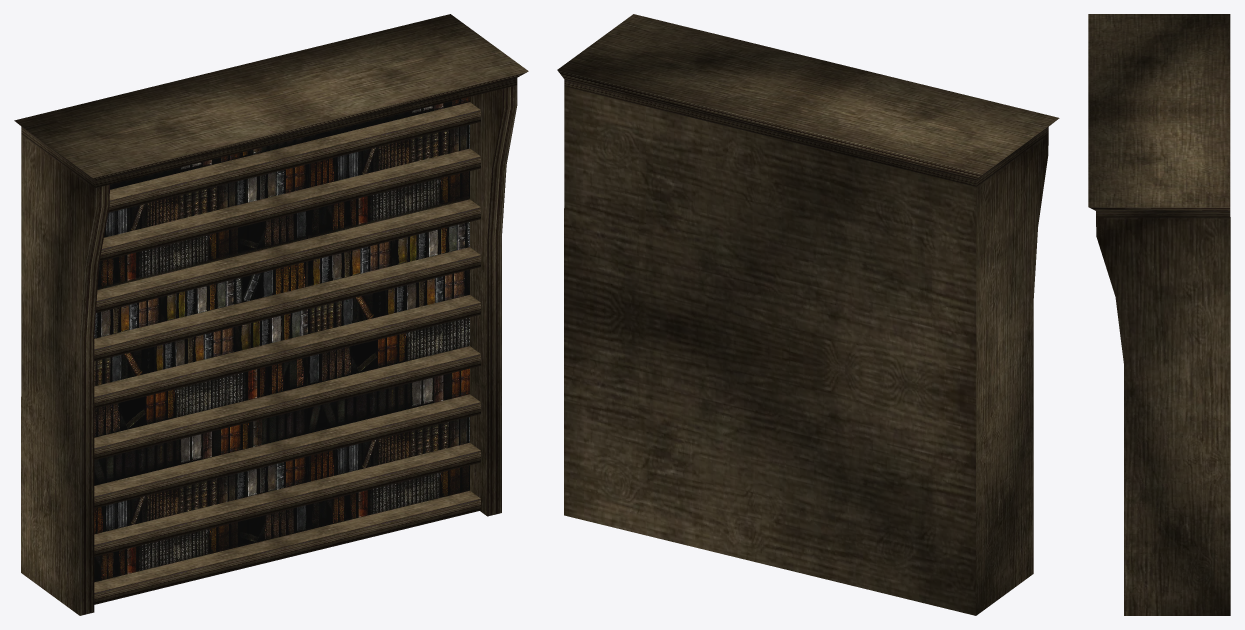
File: GS_CITY_BOOKSHELF_BROWN_01_KOZA.glb
3 views of the same model, side by side, from view 1: azimuth 30°, elevation 25°; view 2: azimuth 150°, elevation 25°; view 3: azimuth 270°, elevation 25° (orthographic). The views are drawn at different scales.
Visible parts, largest first — view 1: Mesh; view 2: Mesh; view 3: Mesh.
Boxes of the visible parts, box(x1,y1,x2,y2) form: Mesh: box(14, 14, 528, 615); Mesh: box(557, 14, 1059, 615); Mesh: box(1088, 14, 1230, 615).
Bounding box in the file's own units: 3 × 2.98 × 0.9349.
Materials: 4 (4 with a texture image).
